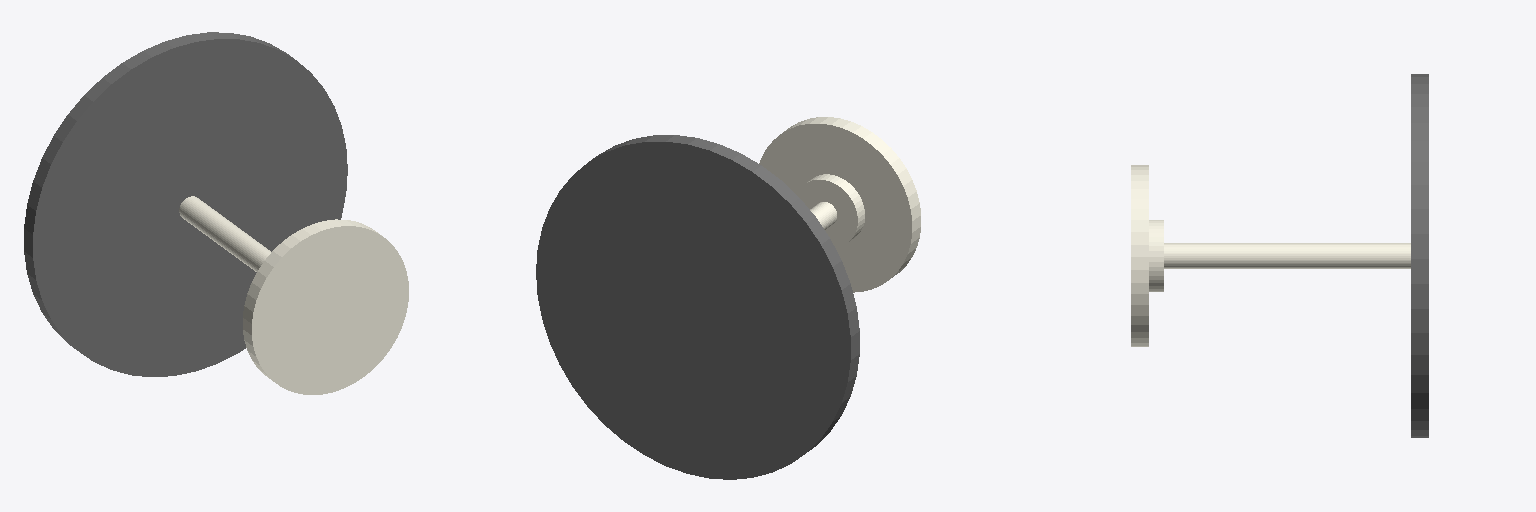
The model's file is coffee_table.obj.
The picture shows the model from 3 angles: view 1: azimuth 30°, elevation 25°; view 2: azimuth 150°, elevation 25°; view 3: azimuth 270°, elevation 25°; orthographic projection.
Size of the model in its own units: 99.88 by 99.94 by 82.